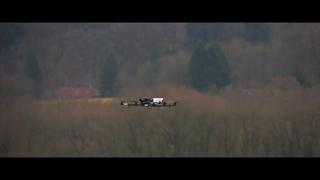UAV: (118, 97, 179, 109)
